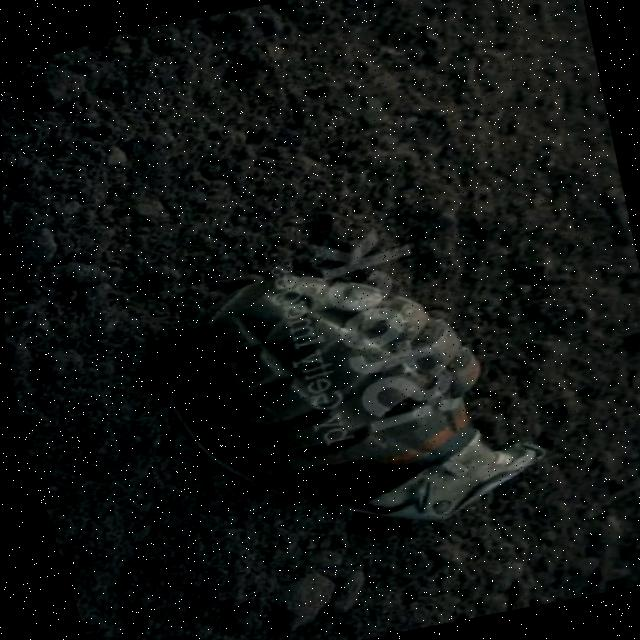grenade: (123, 201, 573, 595)
